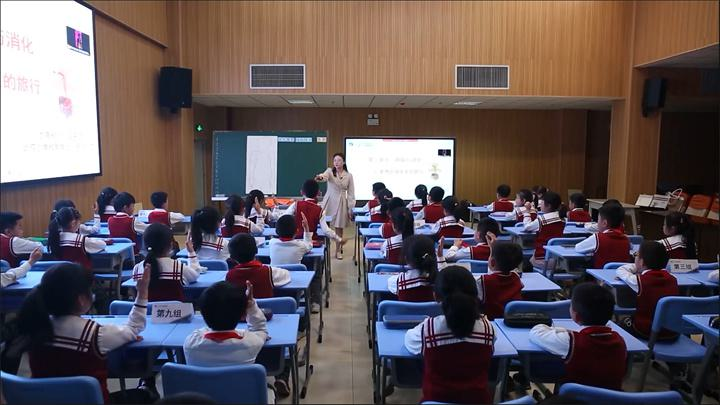hands-up: (45, 262, 154, 360), (190, 278, 272, 375), (548, 269, 624, 358), (139, 228, 197, 290), (475, 227, 525, 297), (268, 208, 319, 275), (391, 232, 446, 287), (522, 189, 564, 243), (219, 191, 268, 237), (60, 199, 101, 231), (252, 189, 280, 220)
listen: (630, 242, 674, 327), (576, 205, 621, 258), (657, 203, 695, 259), (95, 184, 119, 215)
stand: (291, 177, 326, 239)
